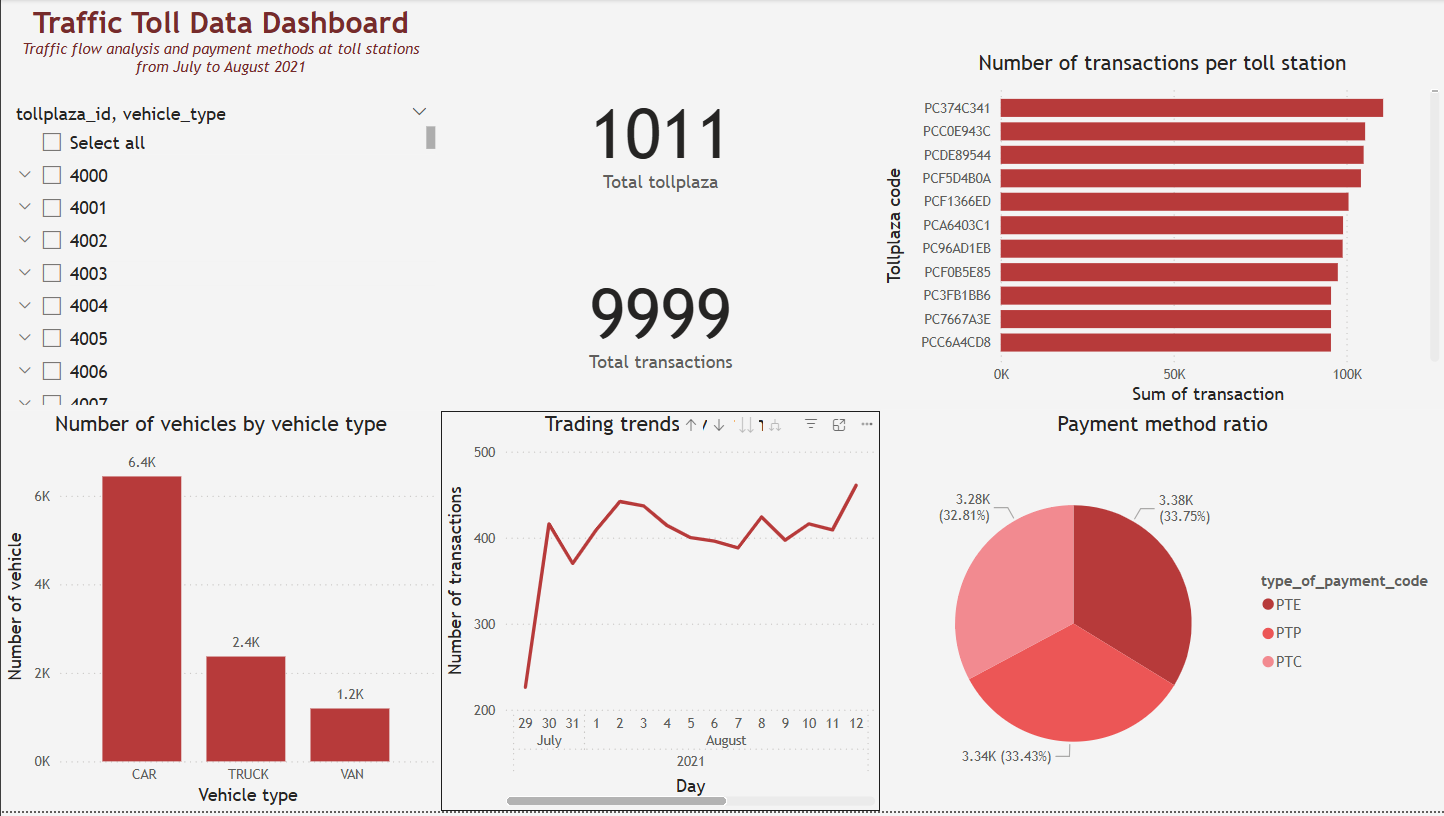

The page's visual inventory and layout, read from the dashboard file:
{"tool":"powerbi","page":{"name":"Page 1","canvas":[1280,720],"ordinal":0},"visuals":[{"type":"clusteredColumnChart","title":"Number of vehicles by vehicle type","fields":{"Category":["toll_db toll_data.vehicle_type"],"Y":["CountNonNull(toll_db toll_data.rowid)"]},"box":[0,365.3,390,354.6],"z":0},{"type":"lineChart","title":"Trading trends over time","fields":{"Y":["CountNonNull(toll_db toll_data.rowid)"],"Category":["toll_db toll_data.timestamp.Variation.Date Hierarchy.Year","toll_db toll_data.timestamp.Variation.Date Hierarchy.Month","toll_db toll_data.timestamp.Variation.Date Hierarchy.Day"]},"box":[389.8,365.2,389.8,354.8],"z":1000},{"type":"pieChart","title":"Payment method ratio","fields":{"Category":["toll_db toll_data.type_of_payment_code"],"Y":["CountNonNull(toll_db toll_data.rowid)"]},"box":[779.2,365.3,500.8,354.6],"z":2000},{"type":"textbox","box":[0,0,389.6,91.2],"z":3000},{"type":"slicer","fields":{"Values":["toll_db toll_data.tollplaza_id","toll_db toll_data.vehicle_type"]},"box":[0,86.5,389.6,278.4],"z":3001},{"type":"clusteredBarChart","title":"Number of transactions per toll station","fields":{"Category":["toll_db toll_data.tollplaza_code"],"Y":["Sum(toll_db toll_data.rowid)"]},"box":[779.2,45.6,500.8,319.3],"z":3002},{"type":"card","fields":{"Values":["Count(toll_db toll_data.rowid)"]},"box":[389.6,203.4,389.6,161.5],"z":3003},{"type":"card","fields":{"Values":["Count(toll_db toll_data.tollplaza_code)"]},"box":[389.6,45.6,389.6,157.7],"z":3004}]}

Visuals, with their boxes in screenshot pixels (x1, y1, x2, y2), scaled from the page's 1280x720 canvas onto the 1444x816 screenshot:
"Number of vehicles by vehicle type" clusteredColumnChart: Rect(0, 414, 440, 815)
"Trading trends over time" lineChart: Rect(440, 414, 879, 815)
"Payment method ratio" pieChart: Rect(879, 414, 1443, 815)
textbox: Rect(0, 0, 440, 103)
slicer - toll_db toll_data.tollplaza_id x toll_db toll_data.vehicle_type: Rect(0, 98, 440, 414)
"Number of transactions per toll station" clusteredBarChart: Rect(879, 52, 1443, 414)
card - Count(toll_db toll_data.rowid): Rect(440, 231, 879, 414)
card - Count(toll_db toll_data.tollplaza_code): Rect(440, 52, 879, 230)
